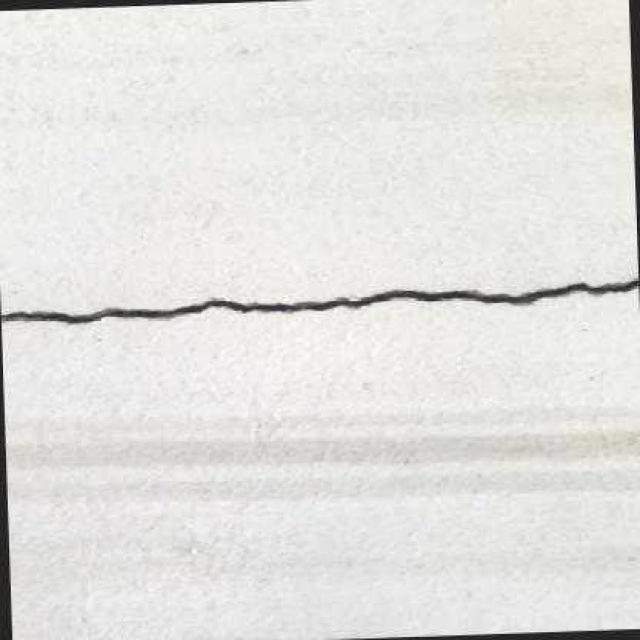D00: (0, 278, 639, 325)
